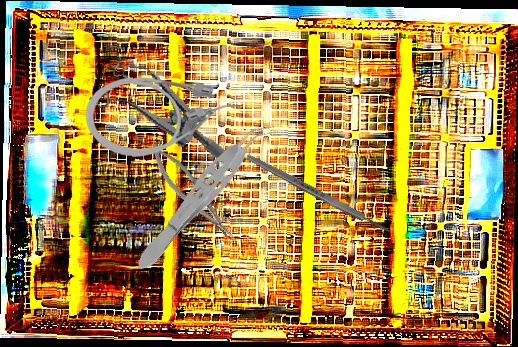Cannula: (84, 75, 238, 159)
Needle Holder: (142, 135, 241, 252)
Scalpel Handle: (243, 151, 394, 237)
Speculum: (84, 51, 247, 164)
Tissue Forceps: (127, 109, 281, 280)
